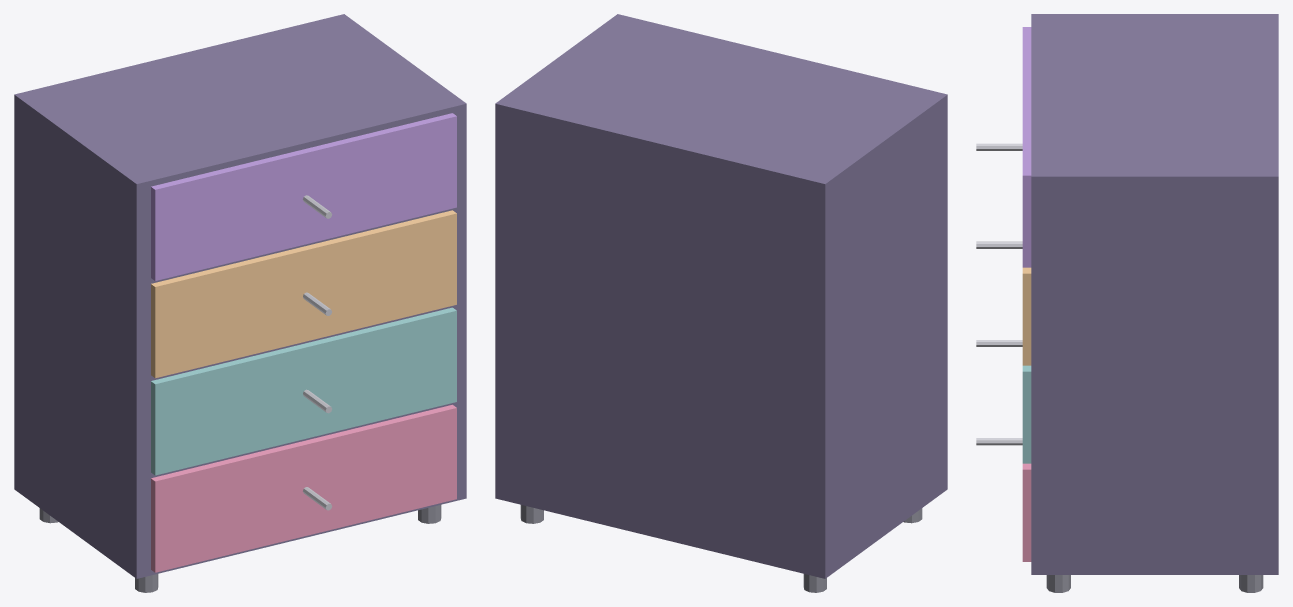
Rendered from deco_cassettiera_01.glb.
The picture shows the model from 3 angles, left to right: view 1: azimuth 30°, elevation 25°; view 2: azimuth 150°, elevation 25°; view 3: azimuth 270°, elevation 25°; orthographic projection.
Parts seen in each view (by area): view 1: deco_cassettiera_01; view 2: deco_cassettiera_01; view 3: deco_cassettiera_01.
Part boxes in pixels (<box>): deco_cassettiera_01: <box>14,14,466,592</box>; deco_cassettiera_01: <box>495,14,947,592</box>; deco_cassettiera_01: <box>976,14,1278,592</box>.
Size of the model in its own units: 0.7 by 0.85 by 0.55.
